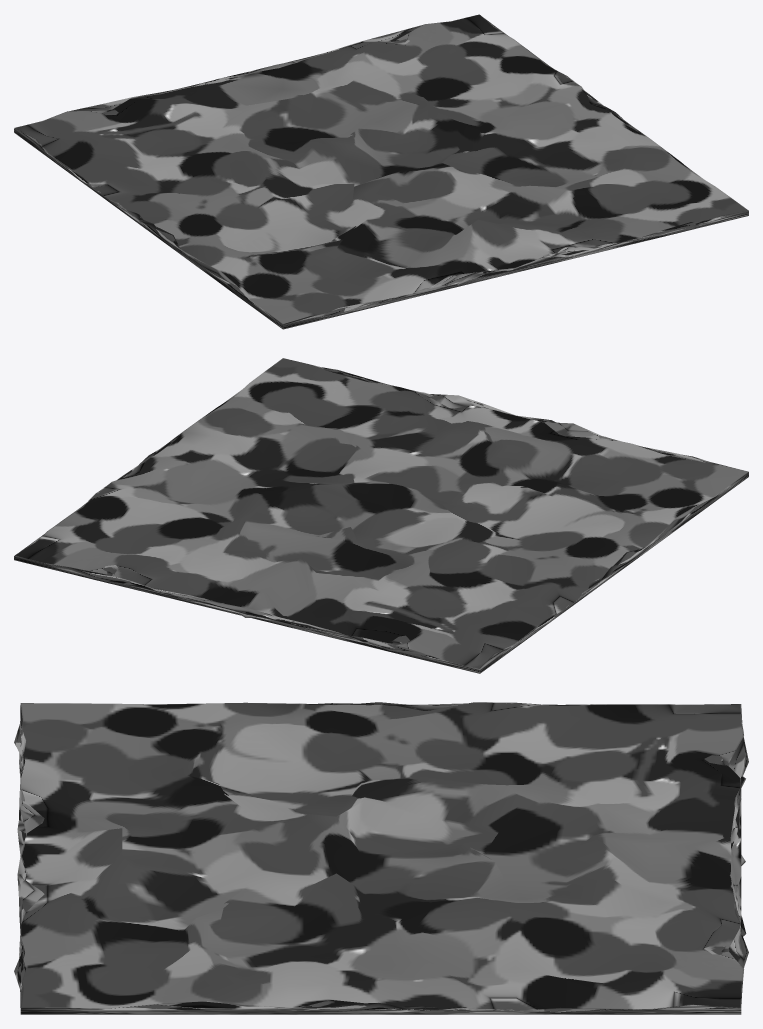
File: bottom.fbx
3 renders of one model, top to bottom at view 1: azimuth 30°, elevation 25°; view 2: azimuth 150°, elevation 25°; view 3: azimuth 270°, elevation 25°, orthographic. The views are drawn at different scales.
Parts seen in each view (by area): view 1: Cube; view 2: Cube; view 3: Cube.
Boxes of the visible parts, <box> form: Cube: <box>14,14,748,329</box>; Cube: <box>14,358,748,673</box>; Cube: <box>14,702,748,1014</box>.
Size of the model in its own units: 0.0202 by 0.00117 by 0.0204.
Materials: 1 (1 with a texture image).
